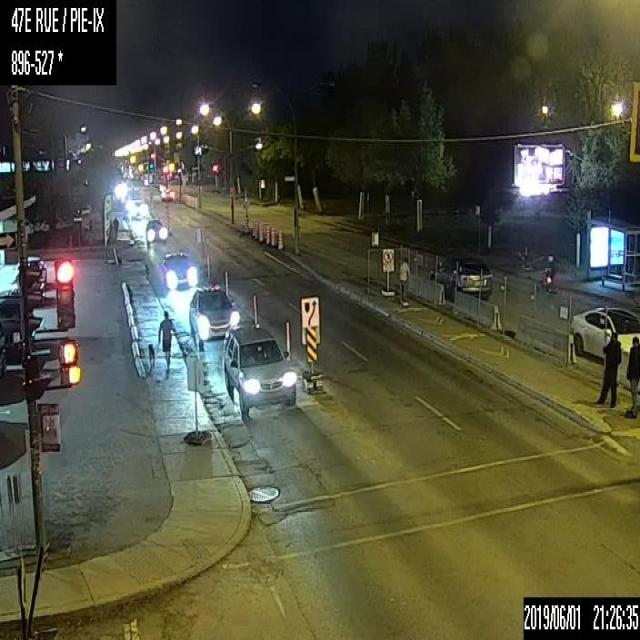construction: (285, 322, 290, 362), (252, 294, 257, 330), (277, 230, 283, 250), (270, 227, 276, 246), (264, 224, 270, 243), (636, 362, 639, 398), (258, 220, 263, 240), (224, 270, 228, 294), (206, 256, 209, 276)
pedestrian: (595, 331, 621, 405), (624, 336, 639, 417), (156, 309, 172, 364), (398, 256, 409, 304), (111, 218, 117, 238)
vehicle: (222, 326, 296, 417), (569, 304, 639, 357), (426, 250, 492, 302), (188, 288, 242, 349), (157, 255, 200, 297), (8, 271, 44, 308), (15, 256, 47, 283), (144, 215, 167, 247), (128, 199, 148, 220), (158, 188, 175, 201)
